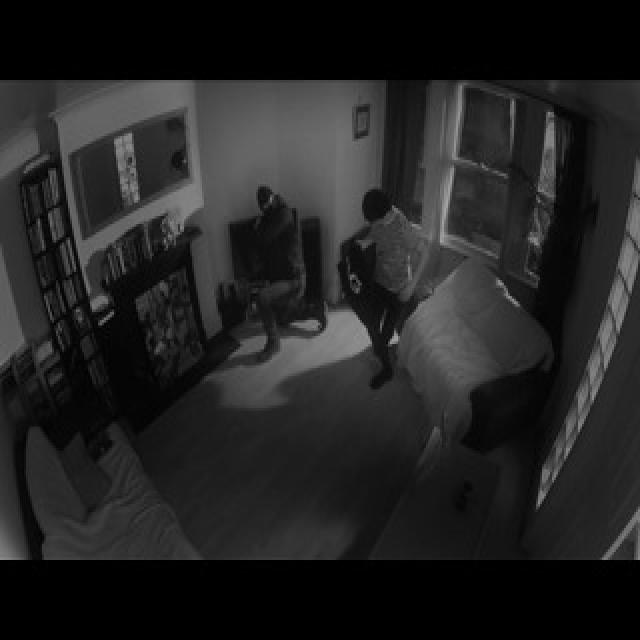thief: (233, 181, 310, 344), (359, 190, 420, 348)
